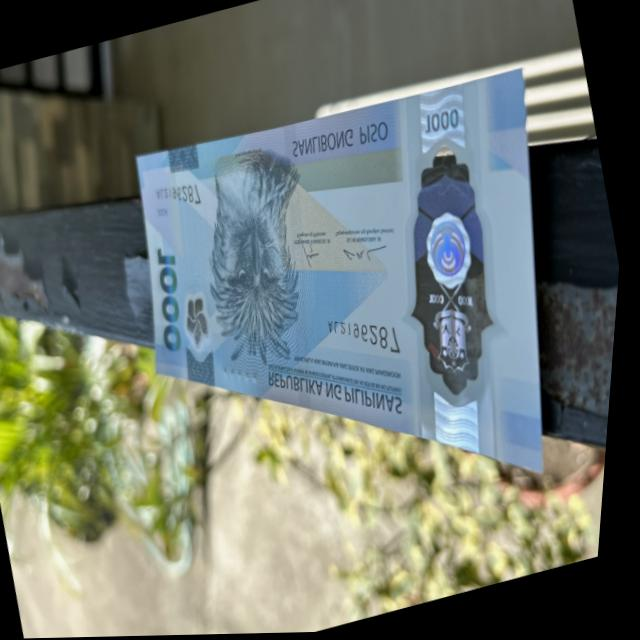clear_window: (373, 128, 524, 403)
eagle: (170, 139, 334, 386)
value: (142, 241, 207, 372)
